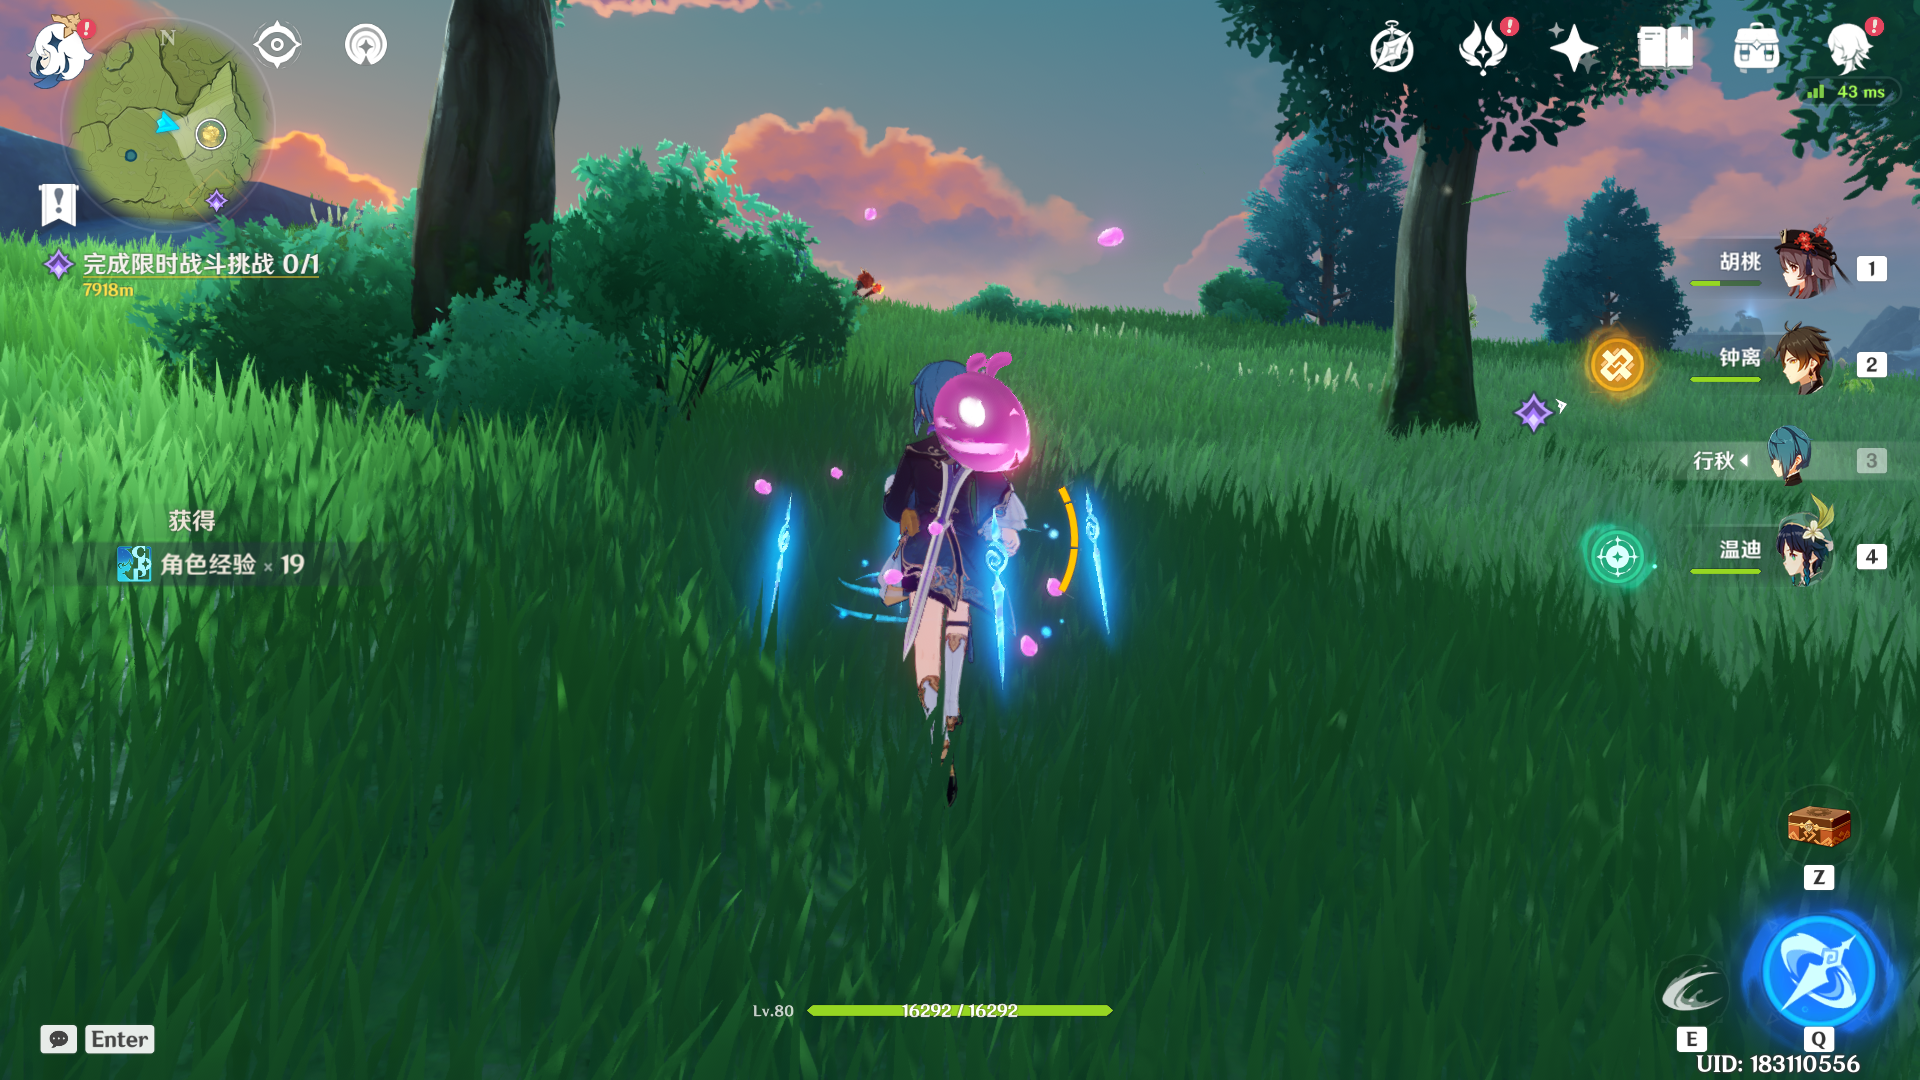character: (825, 345, 1083, 814)
